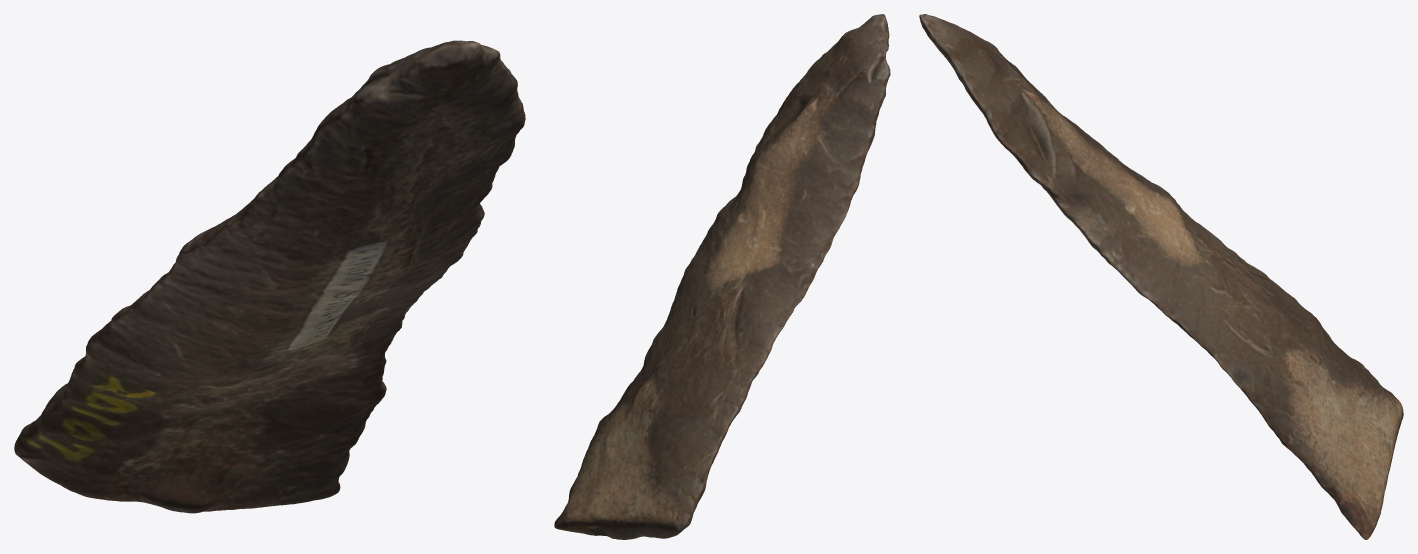
The picture shows the model from 3 angles, left to right: view 1: azimuth 30°, elevation 25°; view 2: azimuth 150°, elevation 25°; view 3: azimuth 270°, elevation 25°; orthographic projection. The views are drawn at different scales.
Visible parts, largest first — view 1: Node; view 2: Node; view 3: Node.
Boxes of the visible parts, x1,y1,x2,y2 form: Node: (14, 40, 525, 513); Node: (554, 14, 890, 539); Node: (919, 14, 1403, 539).
Bounding box in the file's own units: 0.5622 × 1.25 × 1.21.
Materials: 1 (1 with a texture image).
